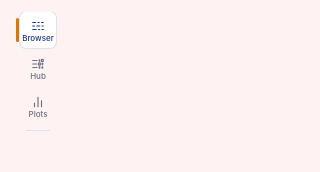
Test case: hub workspace flag › on: the Hub button, H and the ⌘K entry work; turning it off leaves the hub for the browser
Click the button with test id "workspace-hub": (38,68) [20,50,56,86]
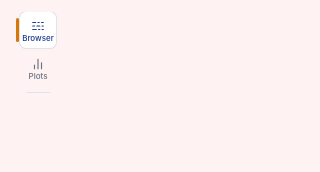
Expected: the button with test id "workspace-hub" is gone
